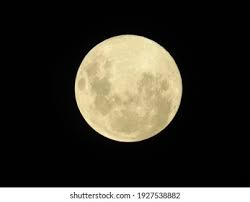moon: (73, 32, 189, 146)
